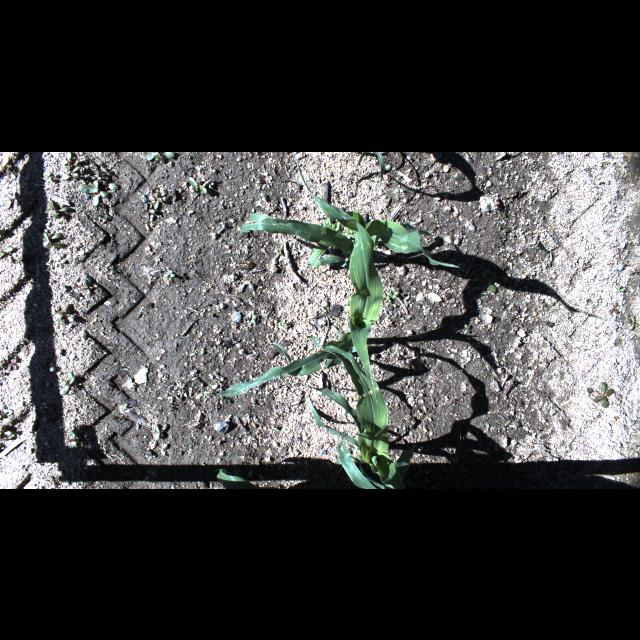crop: (210, 160, 384, 404), (239, 185, 461, 267), (303, 334, 419, 488), (215, 468, 281, 488), (356, 151, 384, 185)
weed: (322, 217, 378, 249), (79, 180, 111, 206), (586, 382, 614, 408), (479, 269, 499, 293), (42, 231, 68, 249), (55, 302, 75, 324), (36, 356, 58, 376), (44, 199, 68, 217), (188, 175, 212, 193), (339, 294, 359, 312), (96, 177, 120, 191), (238, 217, 252, 241), (60, 375, 76, 395), (60, 164, 80, 180), (62, 372, 78, 391), (68, 429, 82, 448), (148, 192, 164, 208), (6, 190, 20, 208), (154, 422, 168, 440), (146, 152, 176, 160), (0, 245, 14, 261), (0, 408, 14, 424), (626, 314, 640, 330), (144, 202, 156, 220), (1, 426, 16, 440), (2, 164, 16, 178), (62, 152, 72, 170), (607, 301, 619, 315), (98, 166, 114, 176), (274, 242, 284, 258), (5, 358, 18, 370), (163, 268, 175, 280), (387, 286, 399, 298), (628, 266, 640, 278), (457, 422, 463, 446), (144, 185, 158, 195), (345, 411, 353, 427), (90, 170, 102, 180), (84, 281, 92, 295), (42, 171, 52, 181), (319, 269, 331, 277), (135, 190, 145, 198), (258, 191, 266, 201), (250, 313, 258, 323), (385, 319, 395, 327), (582, 263, 592, 271), (220, 219, 227, 229), (278, 320, 286, 328), (394, 186, 404, 192), (386, 294, 392, 304), (109, 266, 115, 274), (200, 346, 206, 354), (270, 425, 278, 431), (618, 284, 624, 292), (463, 323, 467, 333), (550, 300, 556, 306), (252, 400, 256, 406), (541, 213, 545, 219), (200, 462, 204, 466), (395, 194, 399, 198), (425, 436, 429, 440)
